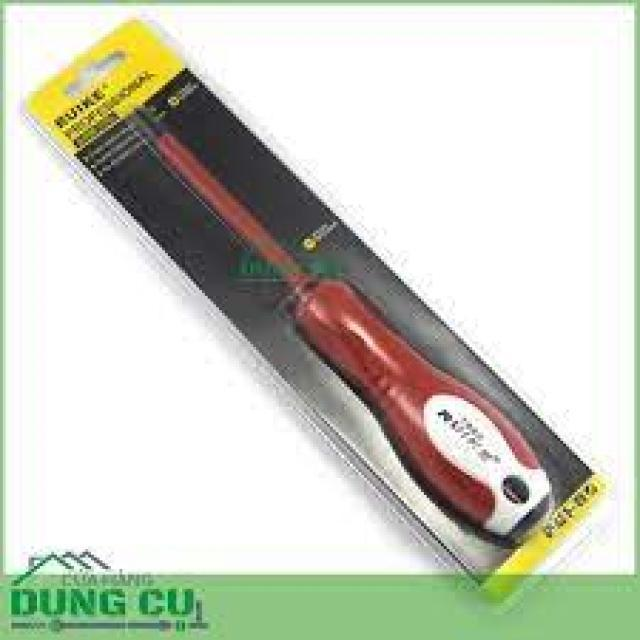screwdriver: (113, 88, 554, 543)
